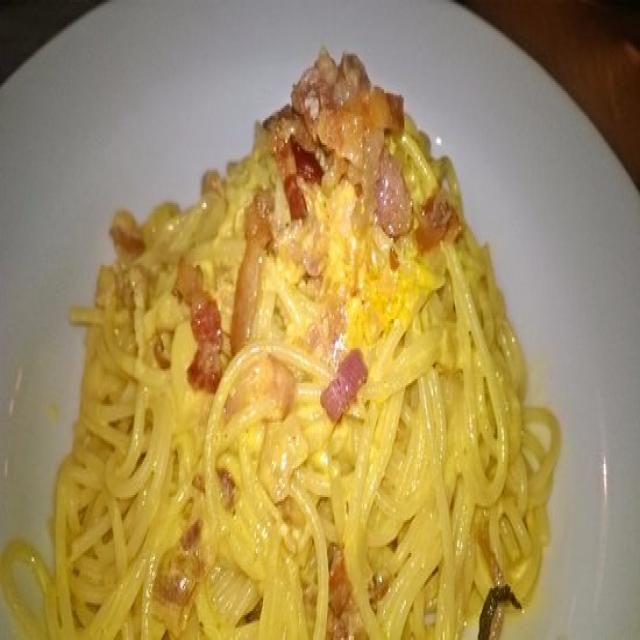Pasta with carbonara sauce: (7, 52, 575, 634)
